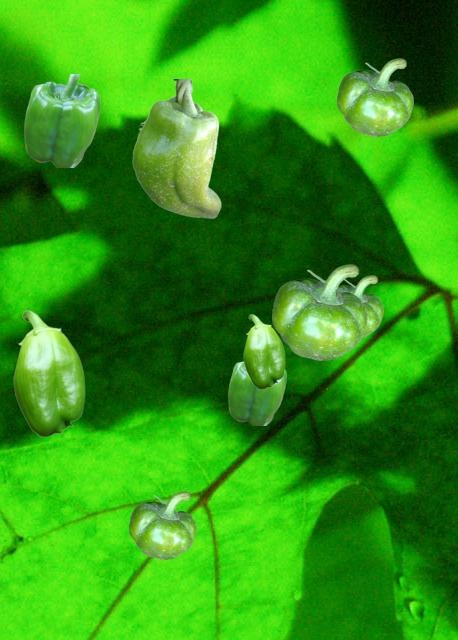bell_pepper: (132, 79, 220, 217), (13, 310, 84, 436), (272, 264, 366, 359), (24, 74, 99, 166), (337, 58, 412, 135), (129, 491, 195, 558), (228, 361, 285, 424), (243, 314, 284, 388), (338, 275, 382, 338)
